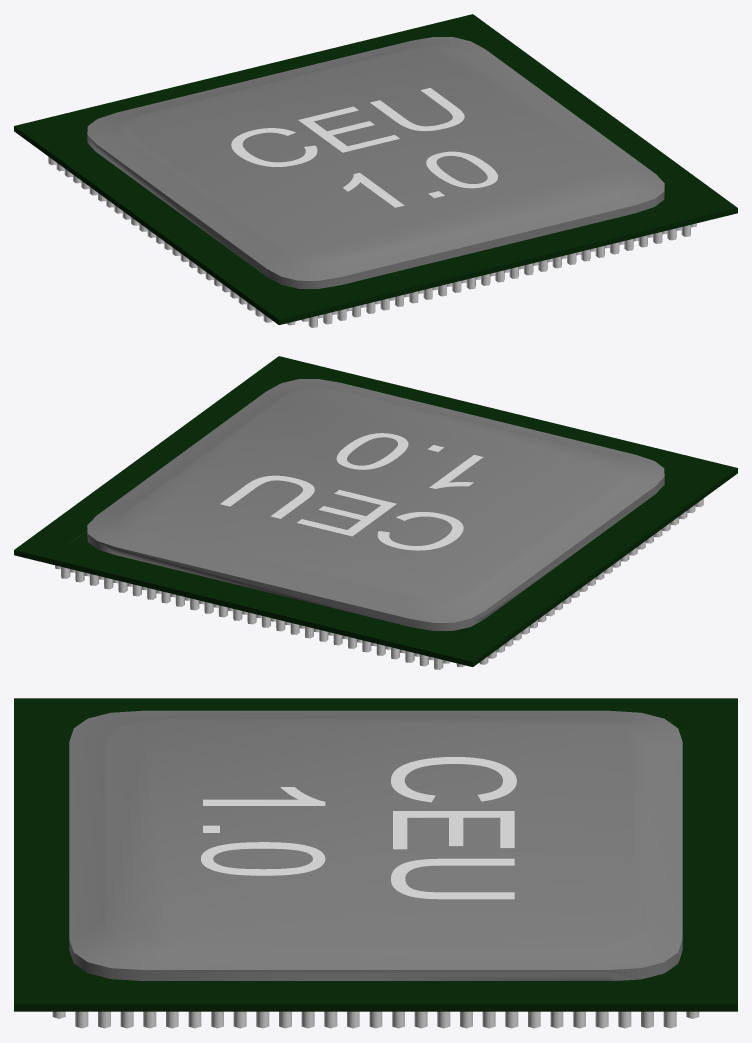
Rendered from microprocesador.fbx.
3 views of the same model, one above another, from view 1: azimuth 30°, elevation 25°; view 2: azimuth 150°, elevation 25°; view 3: azimuth 270°, elevation 25° (orthographic). The views are drawn at different scales.
Parts seen in each view (by area): view 1: Base_CPU, Nombre_CPU, Pinchos_CPU; view 2: Base_CPU, Nombre_CPU, Pinchos_CPU; view 3: Base_CPU, Nombre_CPU, Pinchos_CPU.
Part boxes in pixels (box(x1,y1,x2,y2)): Base_CPU: box(14, 14, 737, 324); Nombre_CPU: box(231, 88, 497, 207); Pinchos_CPU: box(48, 156, 696, 327); Base_CPU: box(14, 356, 737, 666); Nombre_CPU: box(220, 433, 483, 550); Pinchos_CPU: box(55, 498, 703, 669); Base_CPU: box(14, 698, 737, 1011); Nombre_CPU: box(201, 757, 516, 899); Pinchos_CPU: box(52, 1011, 699, 1028).
Size of the model in its own units: 32 by 2.6 by 32.
